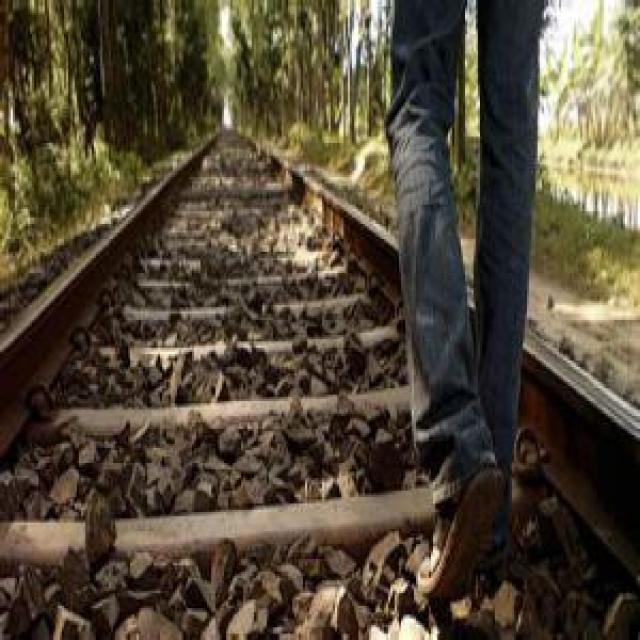danger: (389, 0, 541, 593)
rail: (0, 127, 640, 640)
